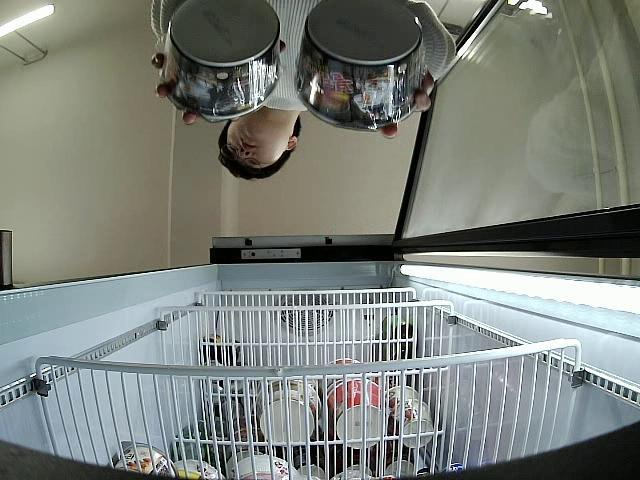07_buldak_L: (296, 0, 430, 131), (160, 0, 284, 119)
